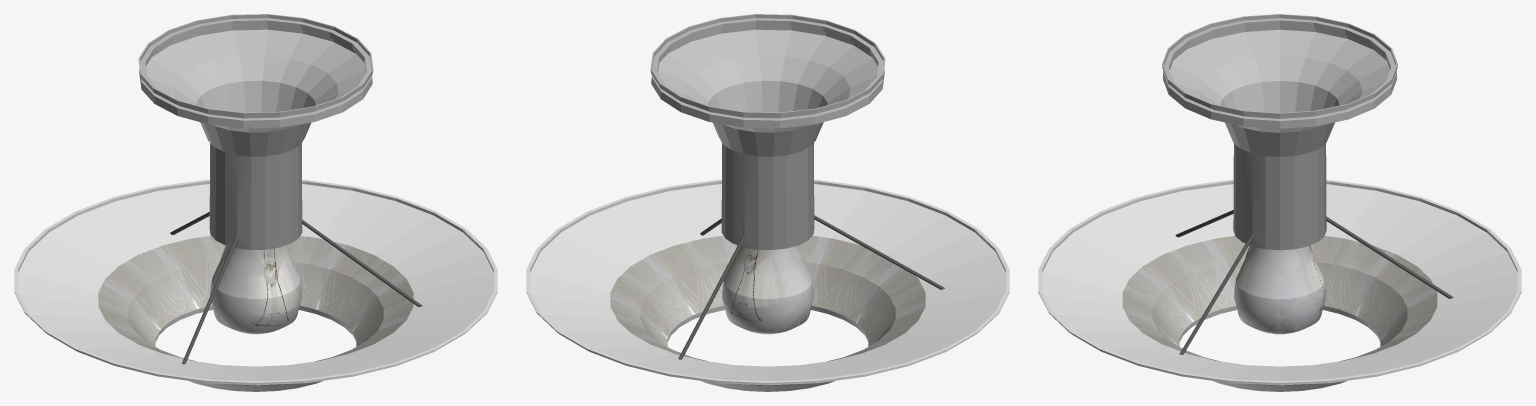
The model's file is Ceiling Light.fbx.
3 renders of one model, left to right at view 1: azimuth 30°, elevation 25°; view 2: azimuth 150°, elevation 25°; view 3: azimuth 270°, elevation 25°, orthographic.
Visible parts, largest first — view 1: polySurface2; view 2: polySurface2; view 3: polySurface2.
Part boxes in pixels (box(x1,y1,x2,y2)): polySurface2: box(14, 14, 497, 391); polySurface2: box(526, 14, 1009, 391); polySurface2: box(1038, 14, 1521, 391).
Size of the model in its own units: 4.81 by 3.12 by 4.79.
7 materials, 2 textured.
